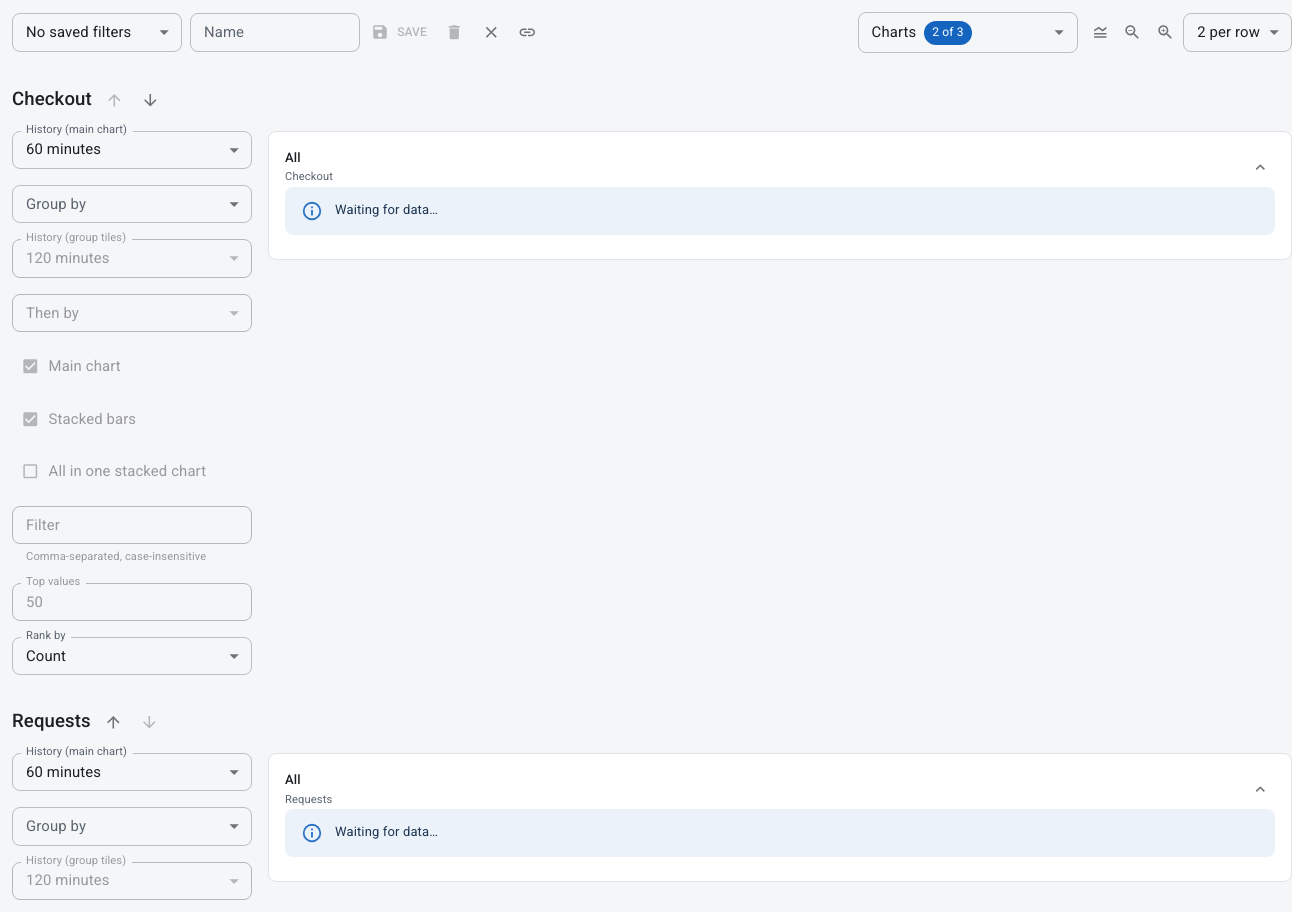
Test: the Charts tab order › draws the picked charts in the picked order and moves them
The image size is (1292, 912).
Click the 2nd button named "Move up" at [113, 722], box [99,708,127,737]
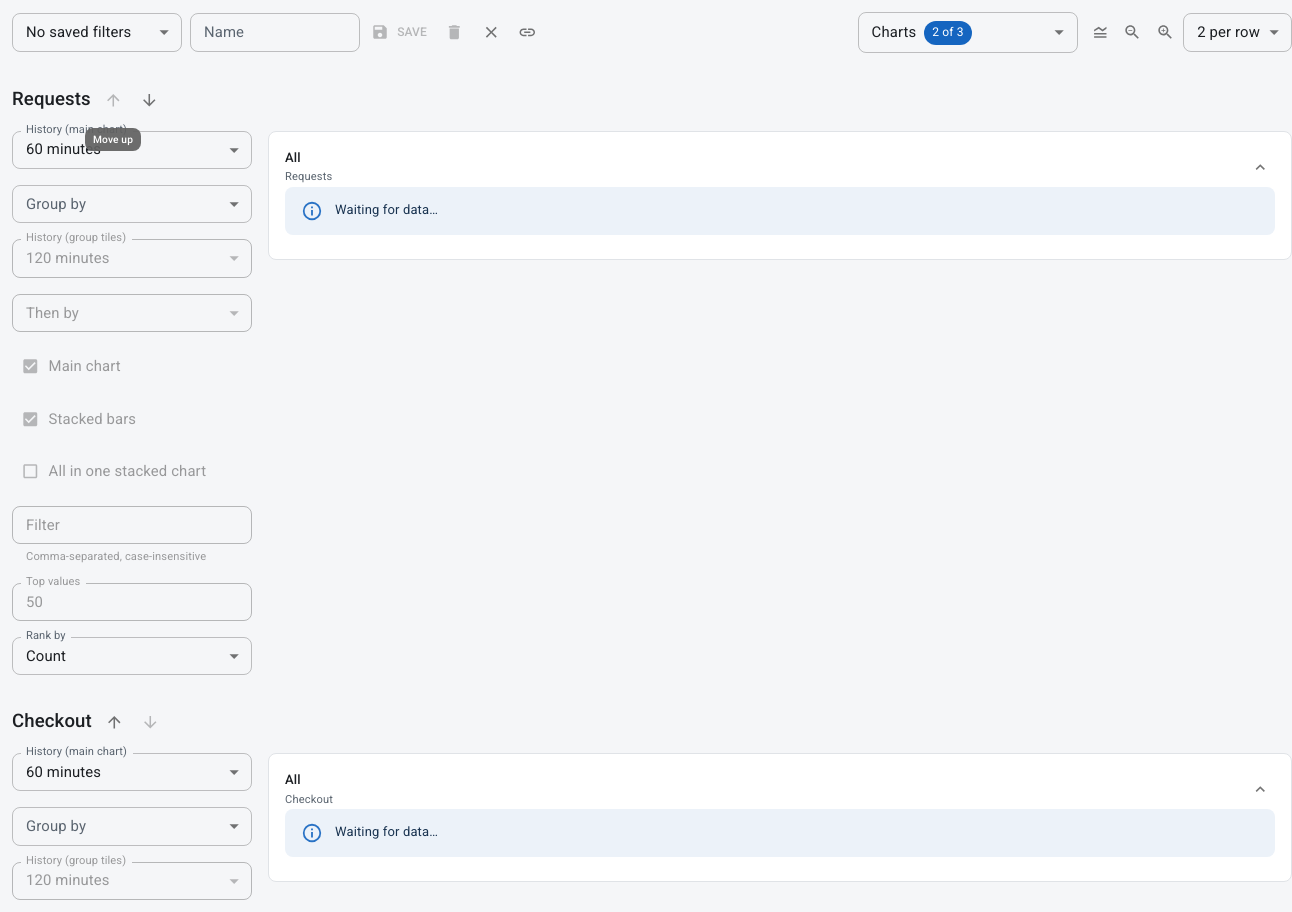
Check: the 1st button named "Move up" is disabled, box [99,86,127,114]
